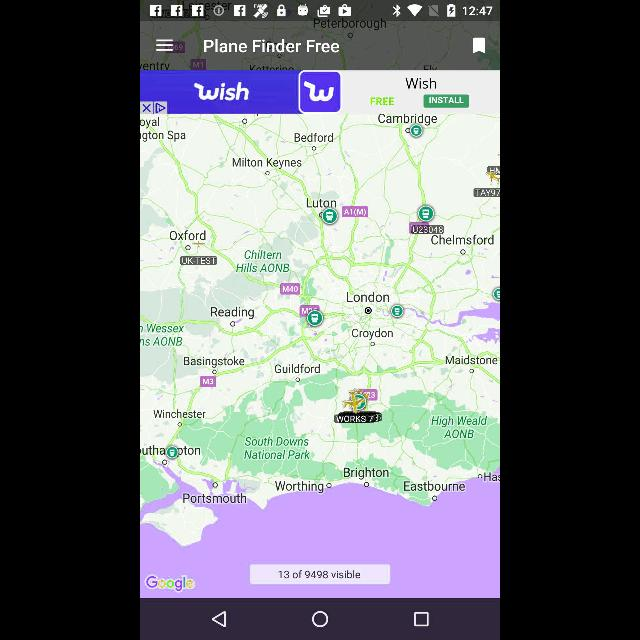icon: (312, 610, 328, 628), (212, 610, 226, 628), (414, 612, 428, 626), (473, 38, 485, 54), (157, 40, 173, 50)
iframe: (140, 72, 500, 114)
map: (140, 114, 500, 598)
panel: (140, 598, 500, 640)
text: (205, 39, 339, 53)
toolbar: (140, 20, 500, 70)
uppertaskbar: (140, 0, 500, 20)
